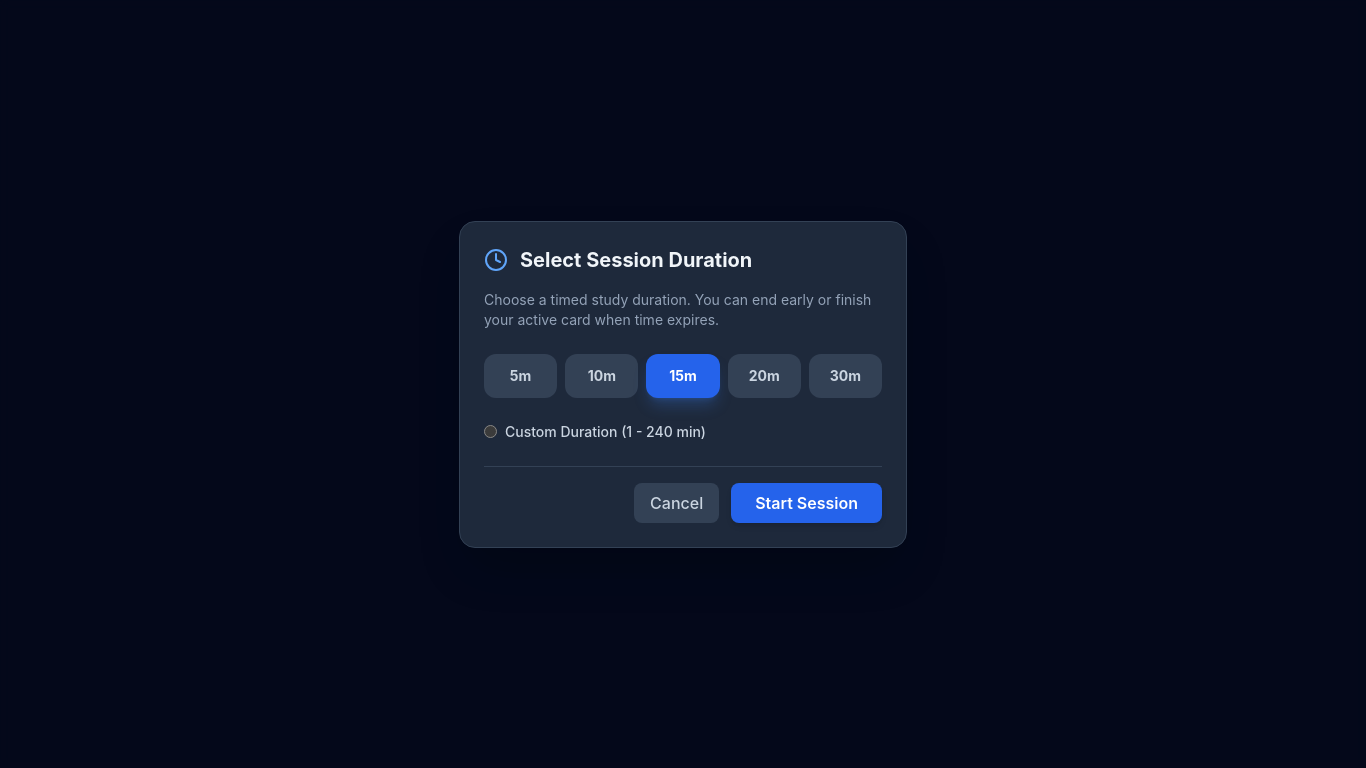
Test: SessionDurationModal (SES-001, SES-002) › SES-002: Validates out-of-range custom duration
The width and height of the screenshot is (1366, 768).
Click the radio button labelled "Custom Duration (1 - 240 min)" at (490, 432), box [484, 425, 497, 438]
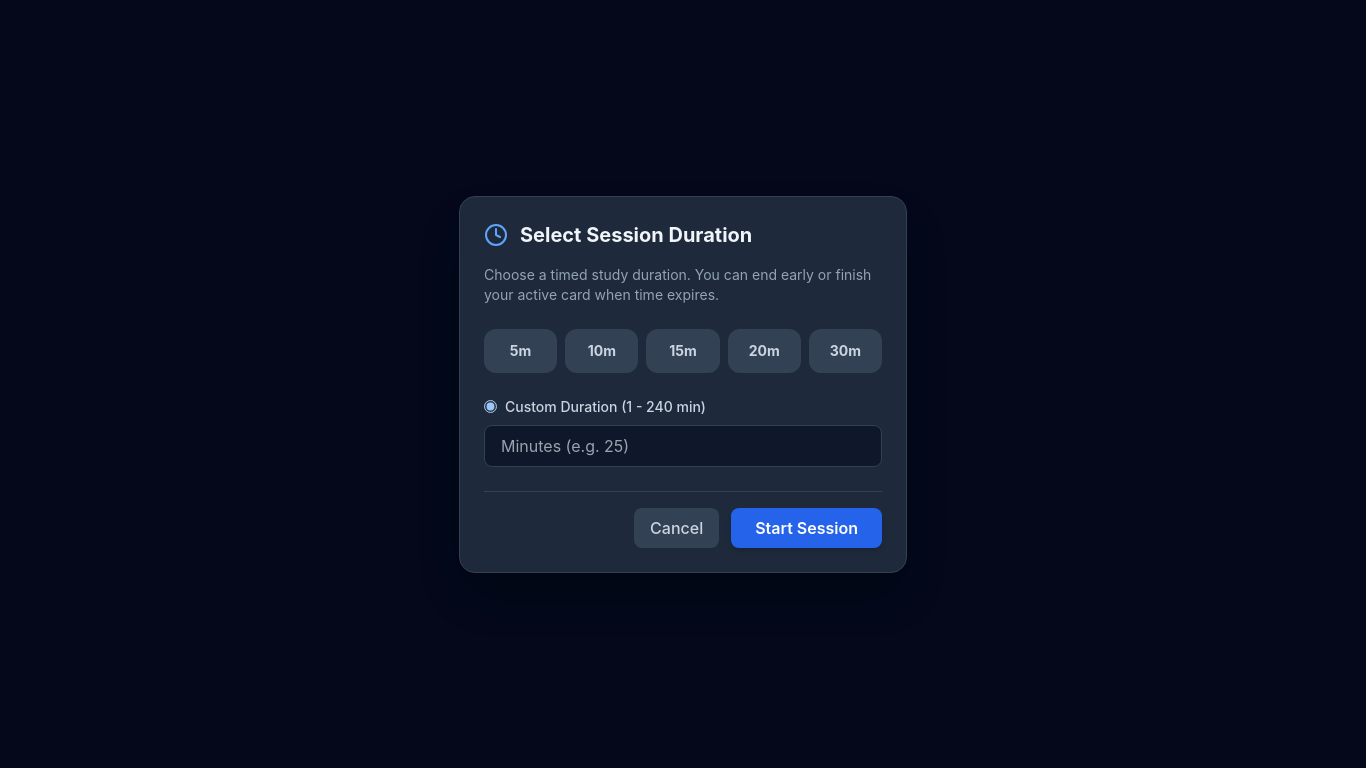
Type "300" into the number field named "custom duration in minutes" at (683, 446), box [484, 424, 882, 466]
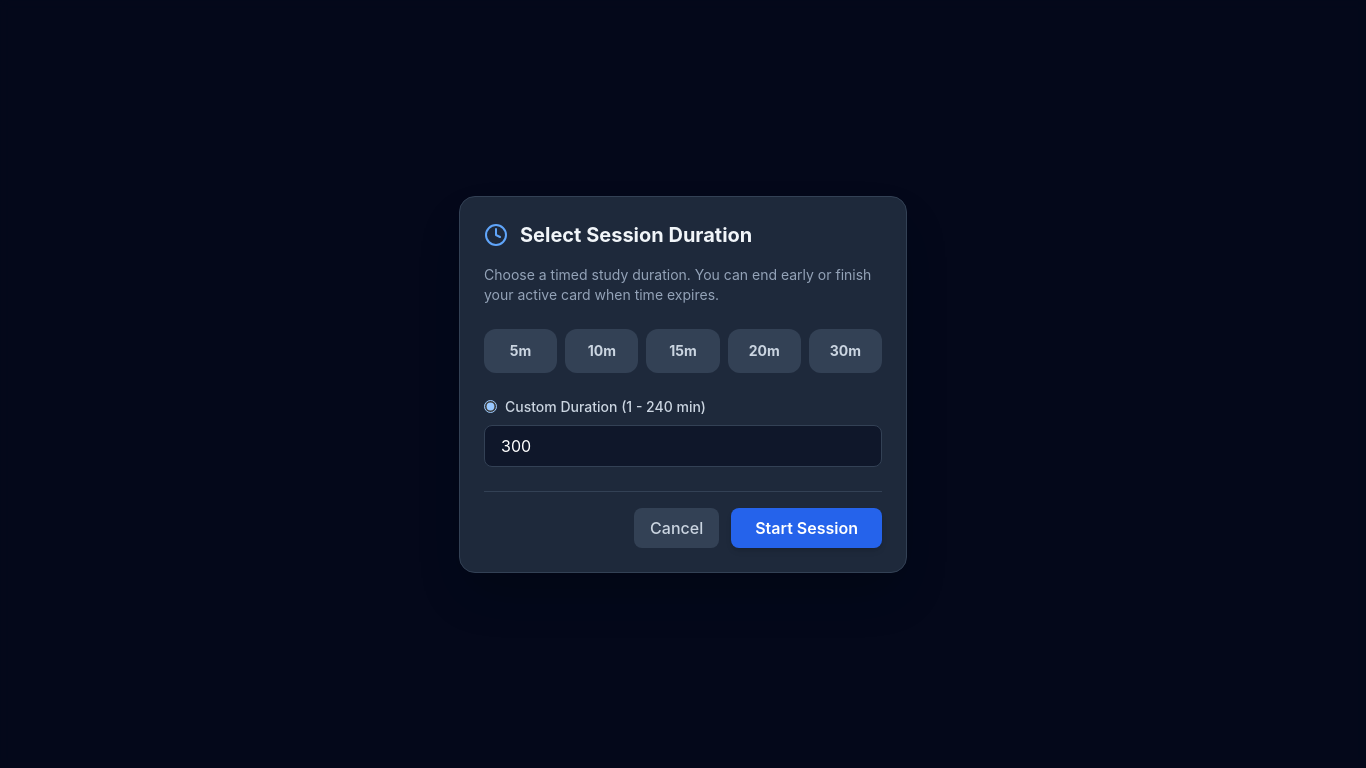
Click the button "Start Session" at (807, 528), box [731, 508, 882, 548]
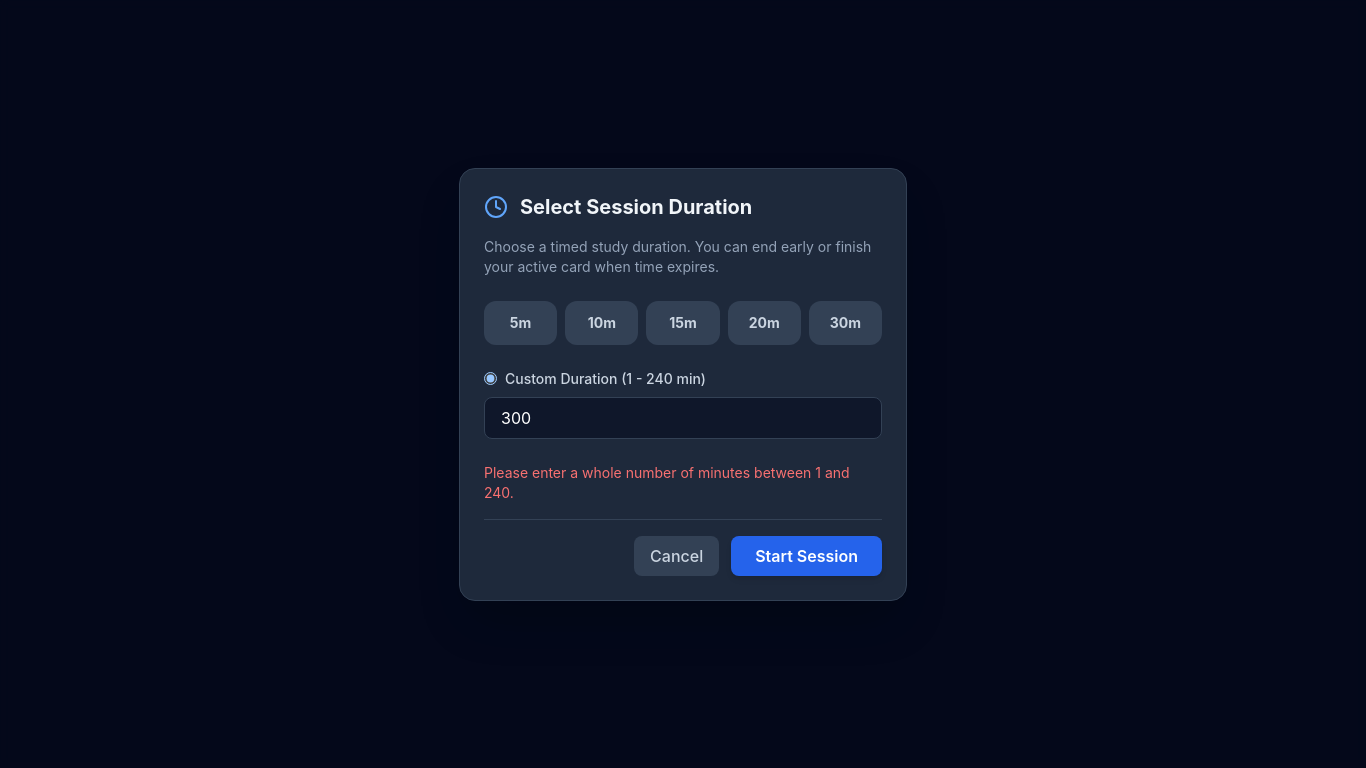
expect the text "Please enter a whole number of minutes between 1 and 240." is shown: met, box [484, 462, 882, 502]
